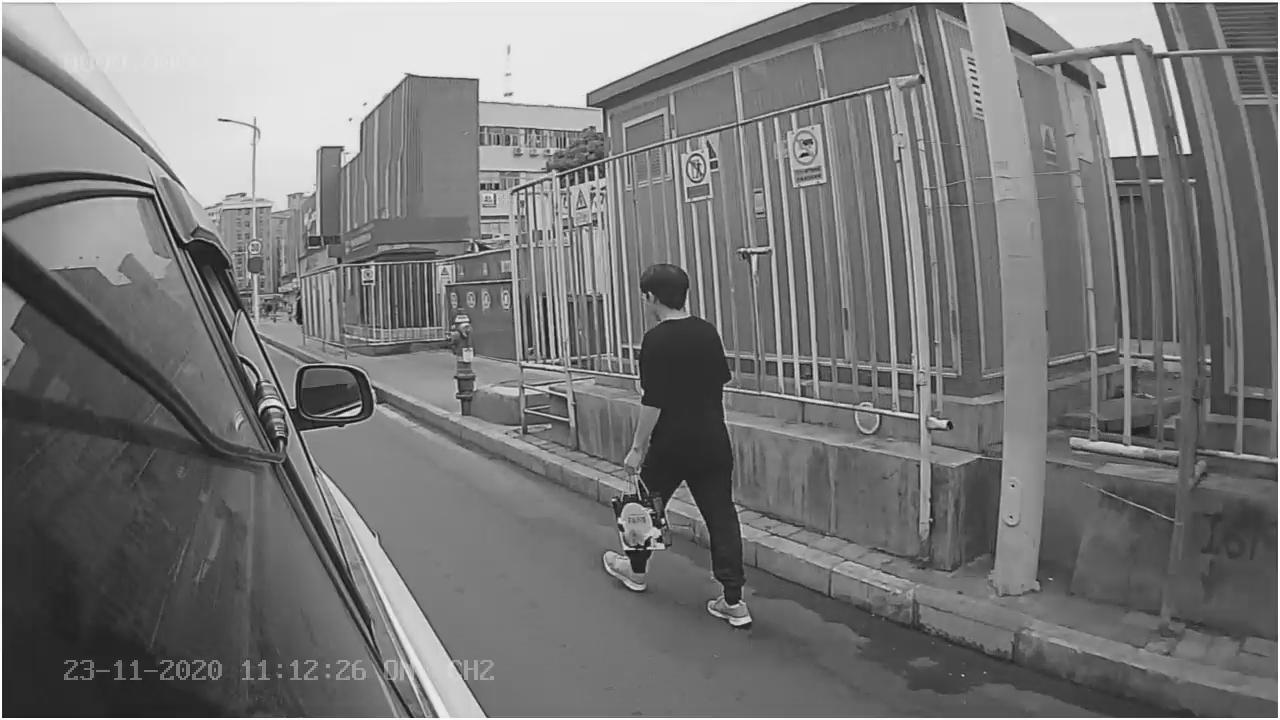person: (588, 261, 774, 638)
